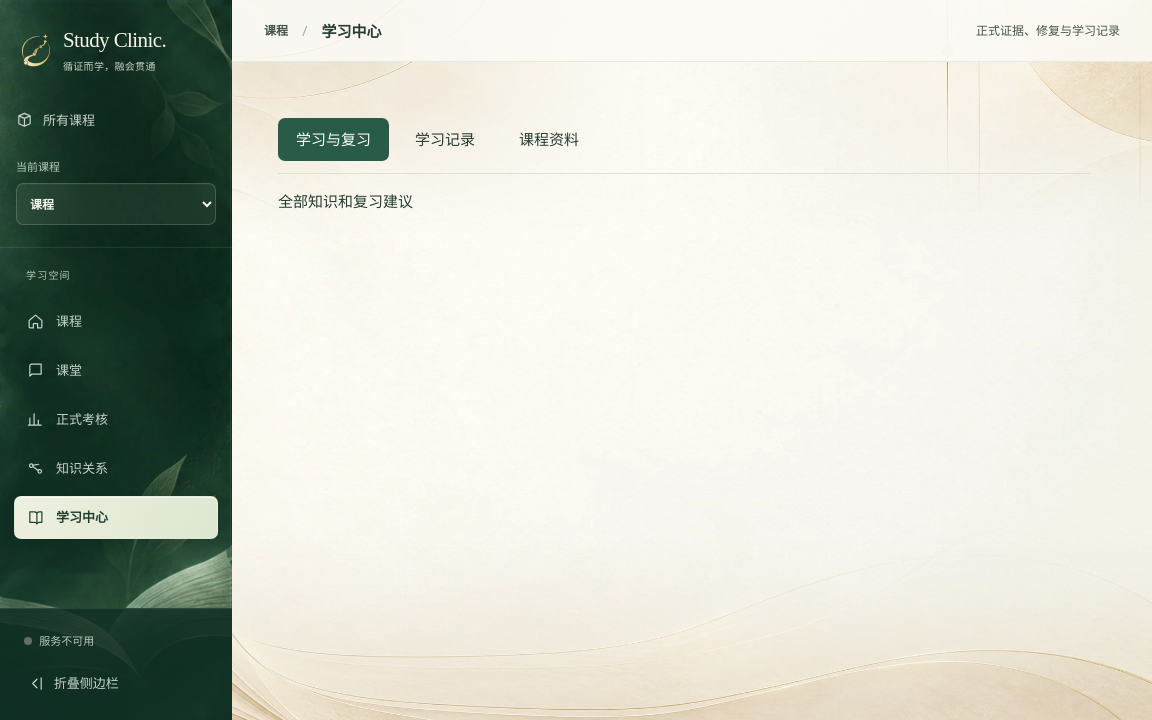
Test: 最终导航与显式删除 › 侧栏只保留学习中心，三个完整模块通过标签访问
Click the tab "学习记录".
click(445, 139)  # box [397,118,493,161]
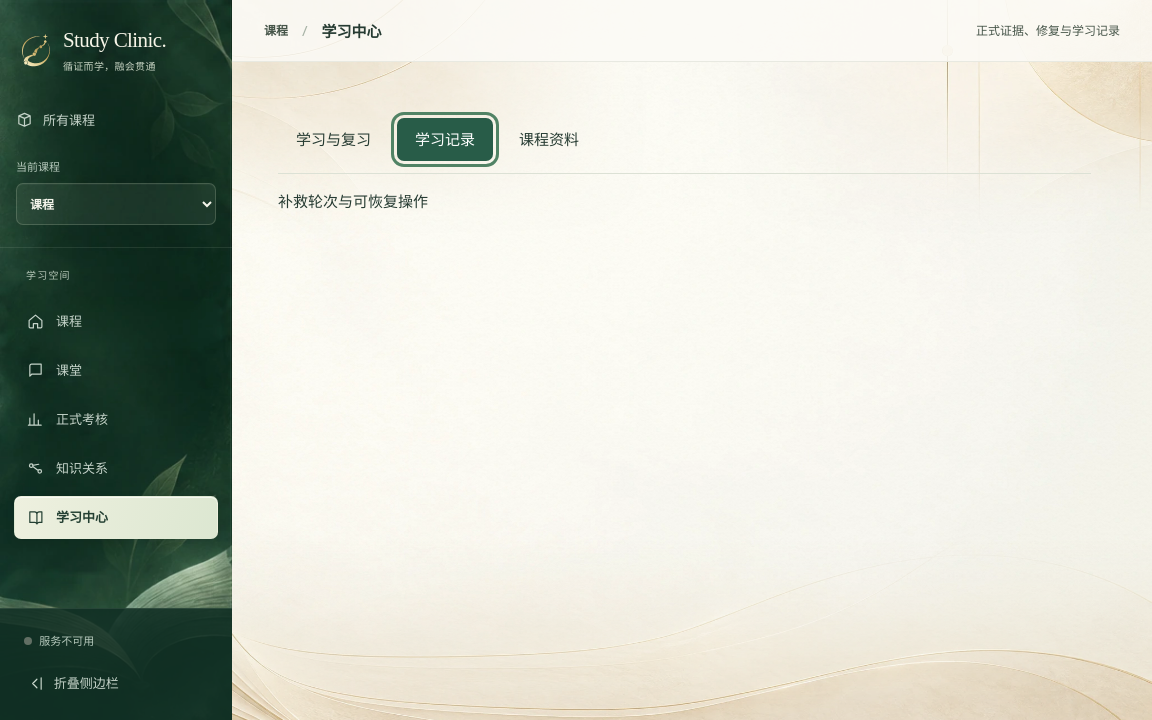
Expected: the text "补救轮次与可恢复操作" is shown, [278,191,428,211]
Press Arrowright
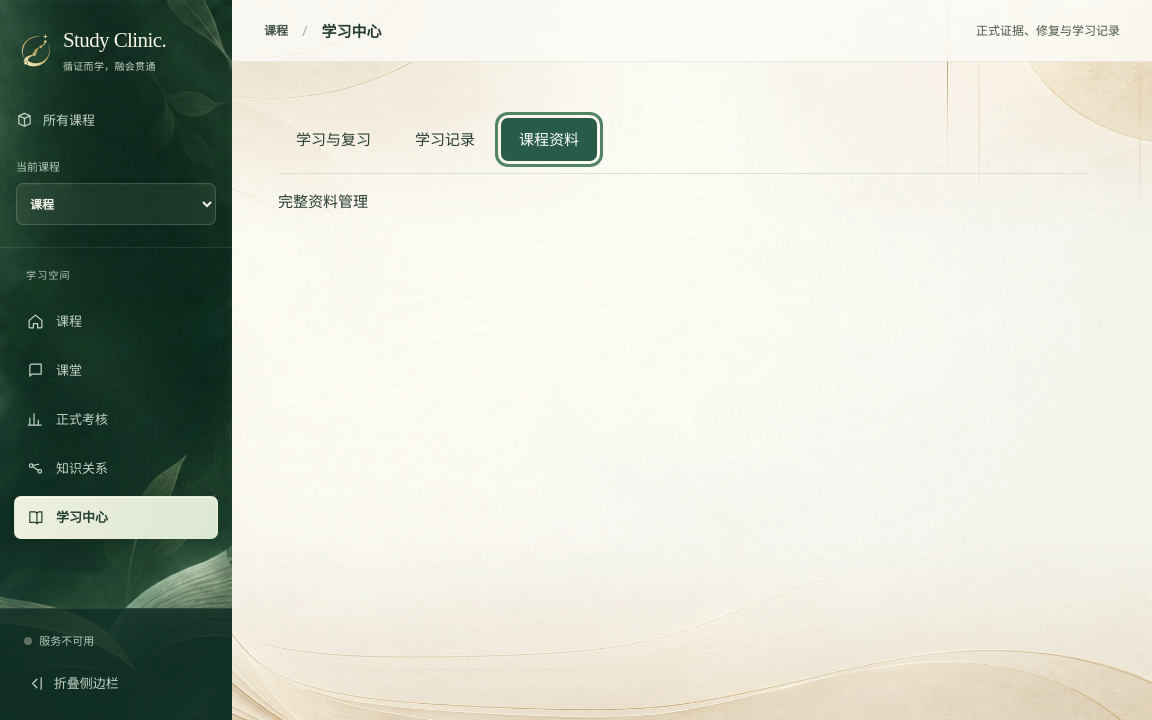
Expected: the text "完整资料管理" is shown, [278,191,368,211]
